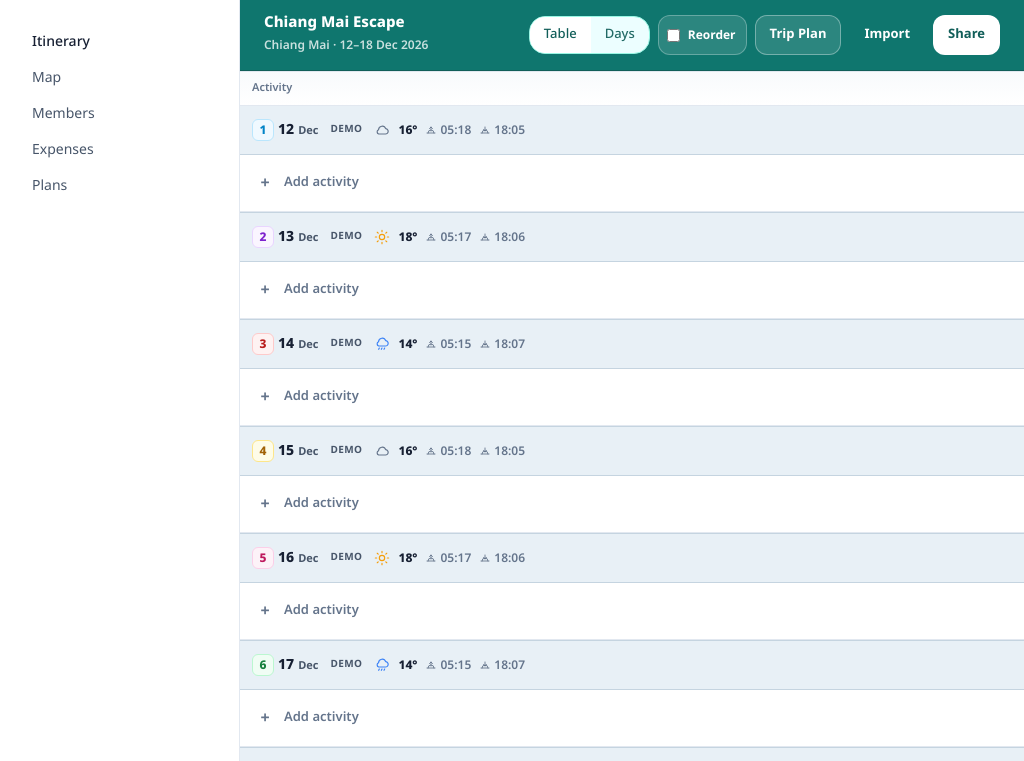
TripWorkspaceShell command bar trip seed › plan switcher lists tripPlans and marks Main Plan (mainTripPlanId) selected
Expected: the text "Chiang Mai Escape" is shown, x1=264 y1=11 x2=405 y2=34
What coordinates should you click on to do the following:
click the button "Trip Plan"
I would click on:
 (798, 35)
Its box is x1=755 y1=15 x2=842 y2=55.
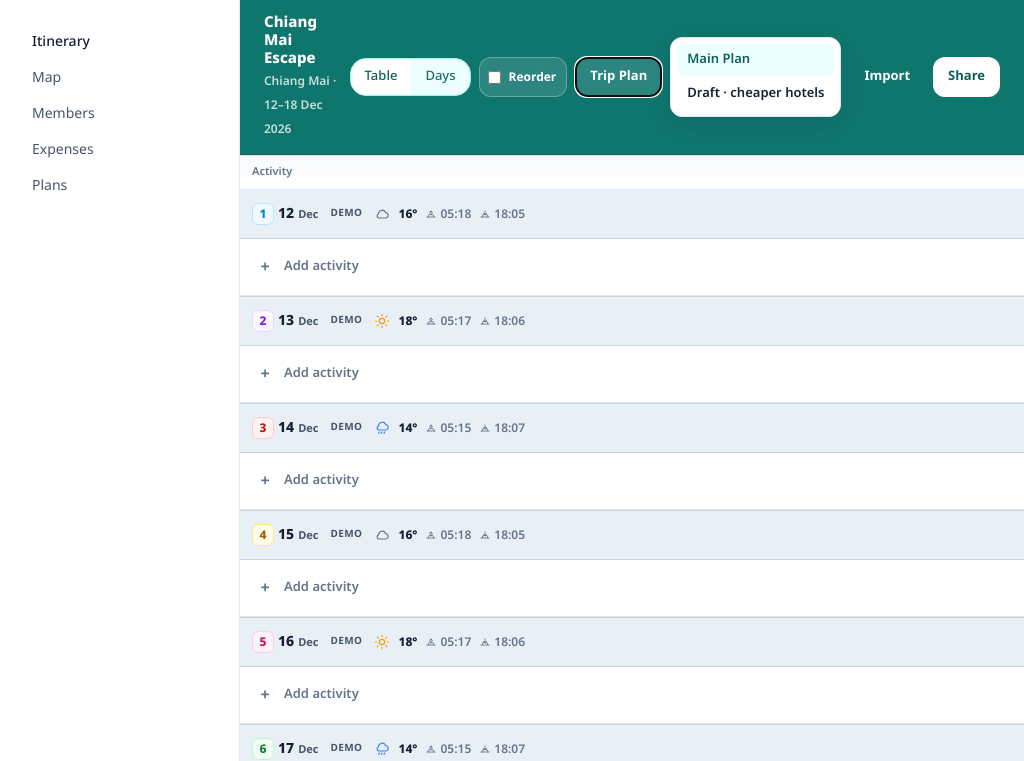
Expected: the button "Trip Plan" is expanded, x1=575 y1=57 x2=662 y2=97
